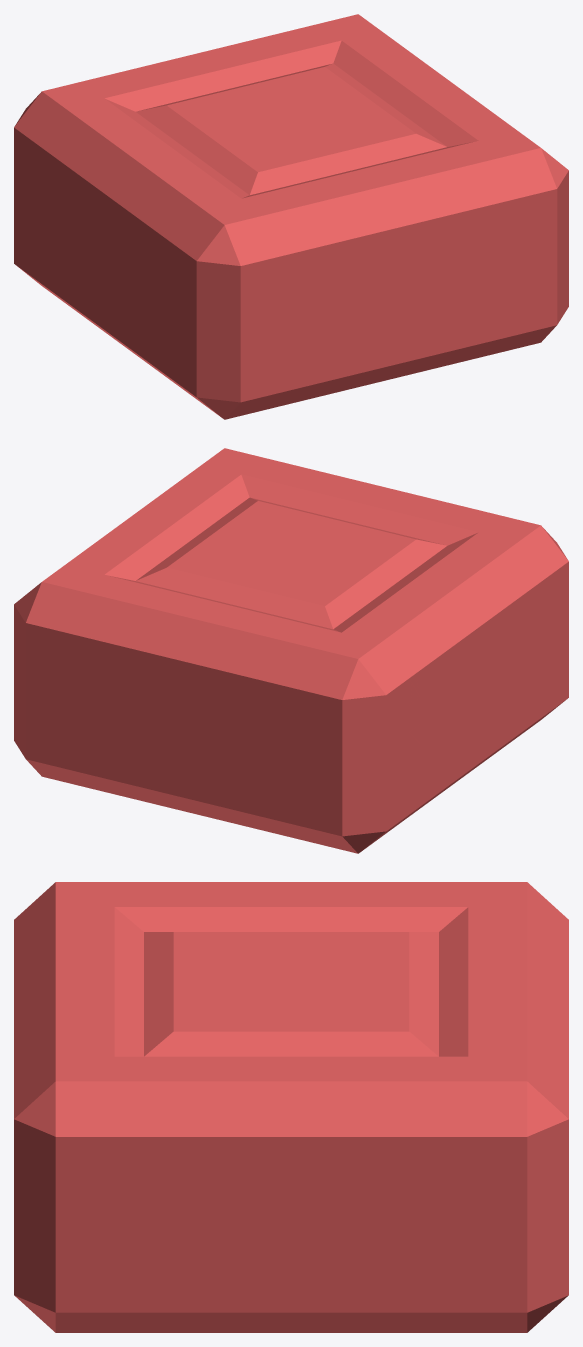
The model's file is CubeBevelWall.fbx.
The picture shows the model from 3 angles, top to bottom: view 1: azimuth 30°, elevation 25°; view 2: azimuth 150°, elevation 25°; view 3: azimuth 270°, elevation 25°; orthographic projection. The views are drawn at different scales.
Visible parts, largest first — view 1: Cube; view 2: Cube; view 3: Cube.
Part boxes in pixels (x1=…): Cube: x1=14, y1=14, x2=568, y2=419; Cube: x1=14, y1=448, x2=568, y2=853; Cube: x1=14, y1=882, x2=568, y2=1332.
Bounding box in the file's own units: 200 × 100 × 200.
